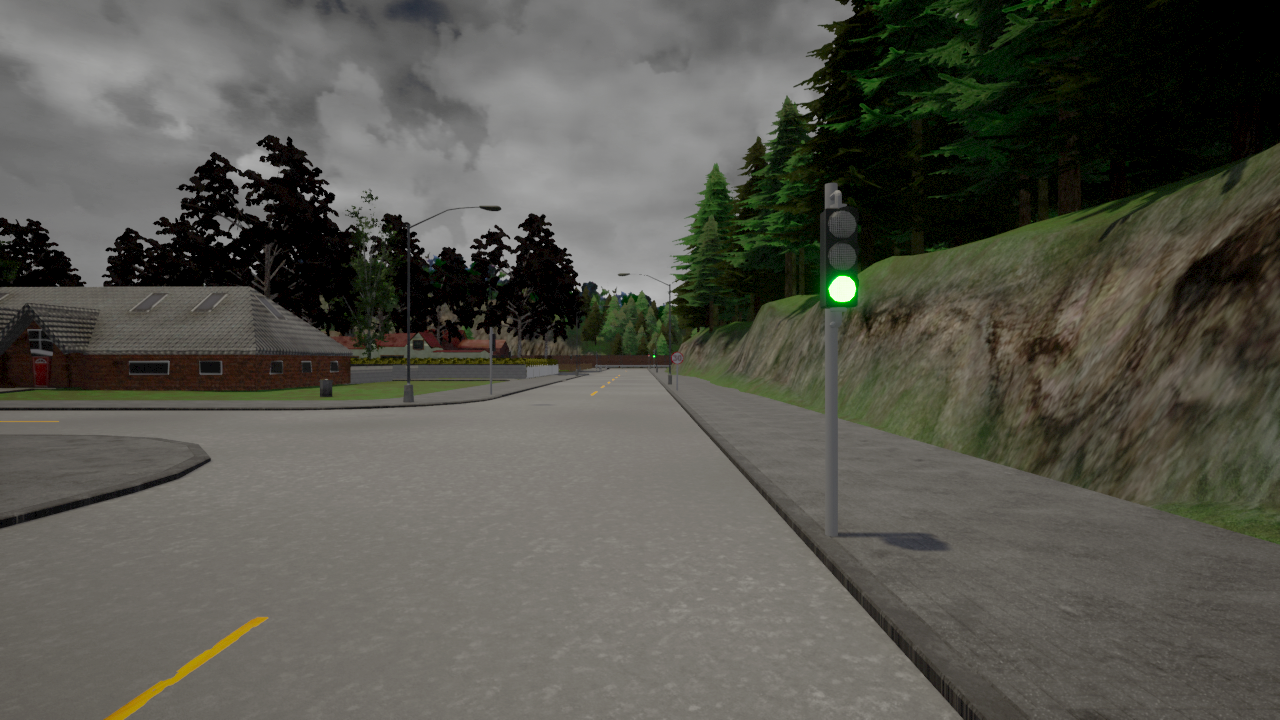green: (818, 205, 862, 312)
